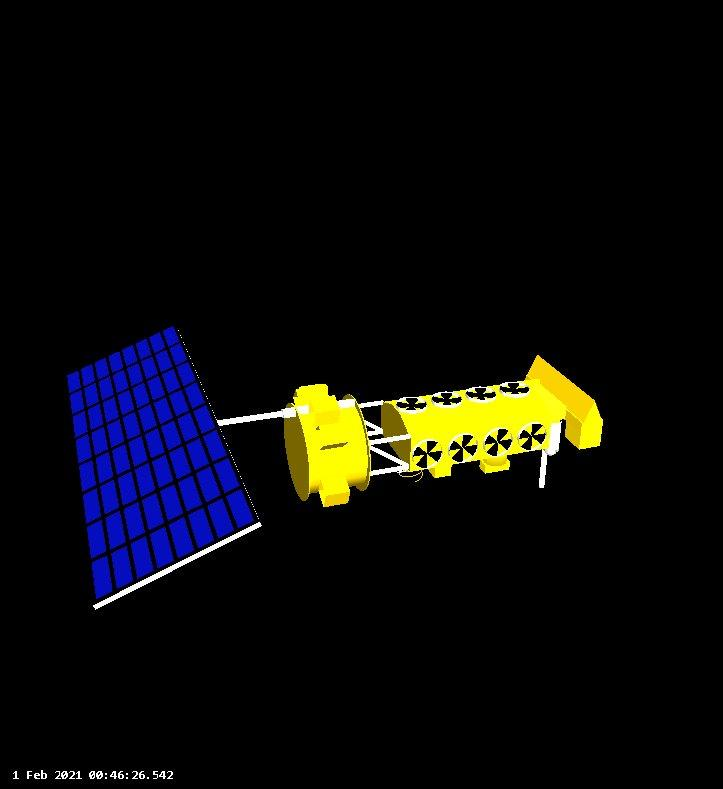antenna: (482, 426, 514, 457), (412, 439, 443, 470), (516, 422, 548, 452), (447, 434, 479, 463), (393, 393, 428, 415), (429, 388, 464, 408), (499, 381, 532, 398), (465, 386, 497, 403)
body: (284, 350, 607, 506)
solar: (62, 322, 266, 609)
